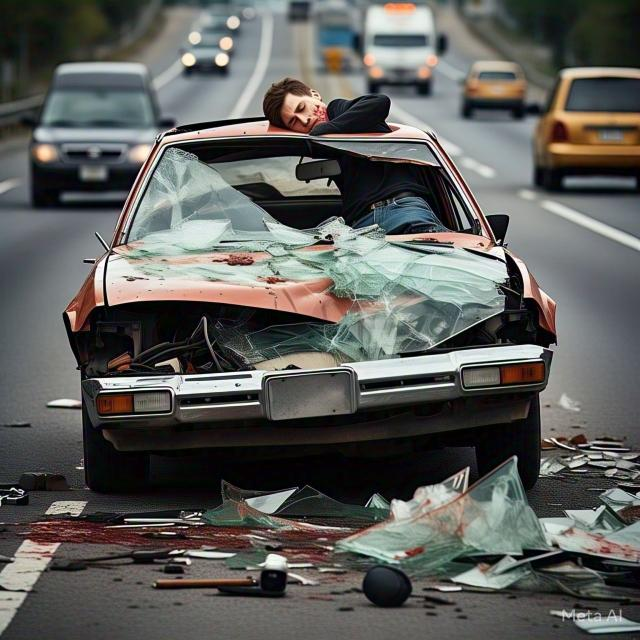injury: (280, 90, 326, 133)
no injury: (328, 155, 447, 234), (263, 78, 392, 137)
